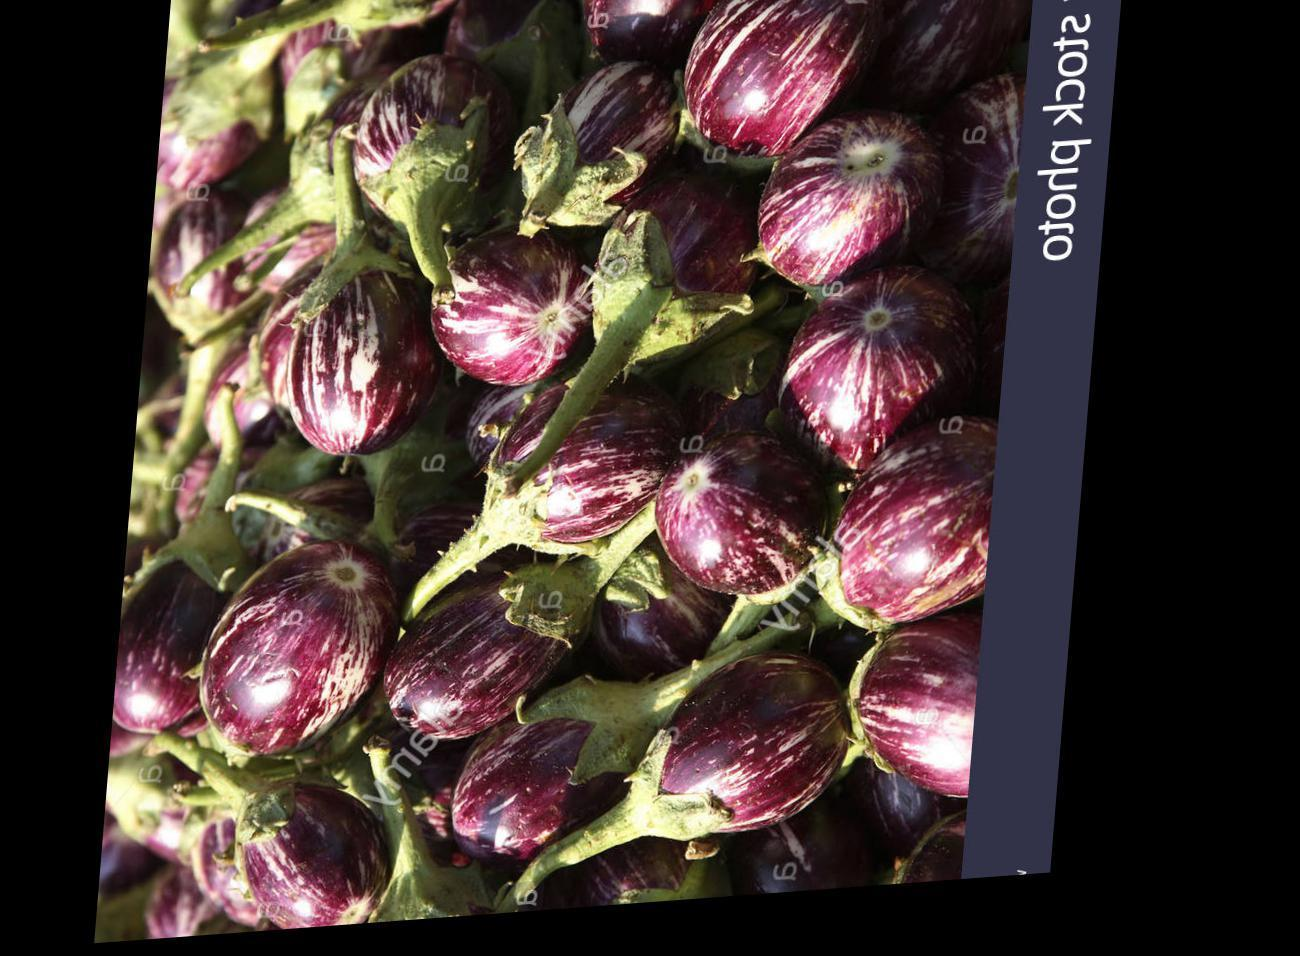eggplant: (133, 0, 1039, 944)
